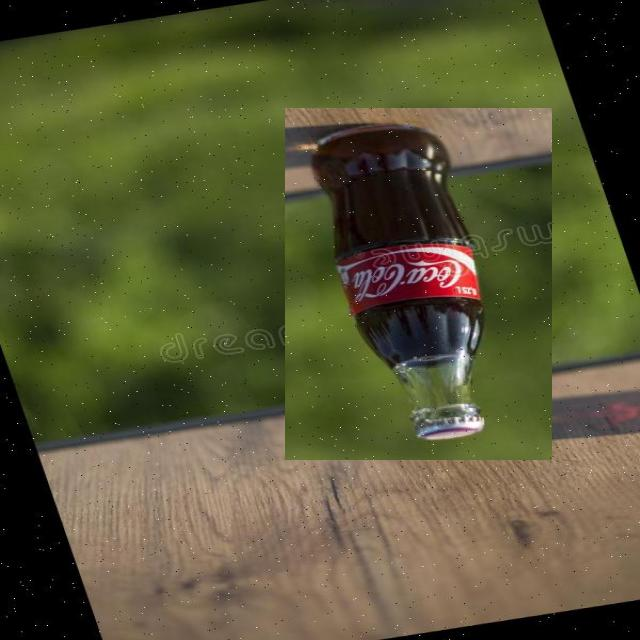coca-cola: (285, 108, 552, 460)
